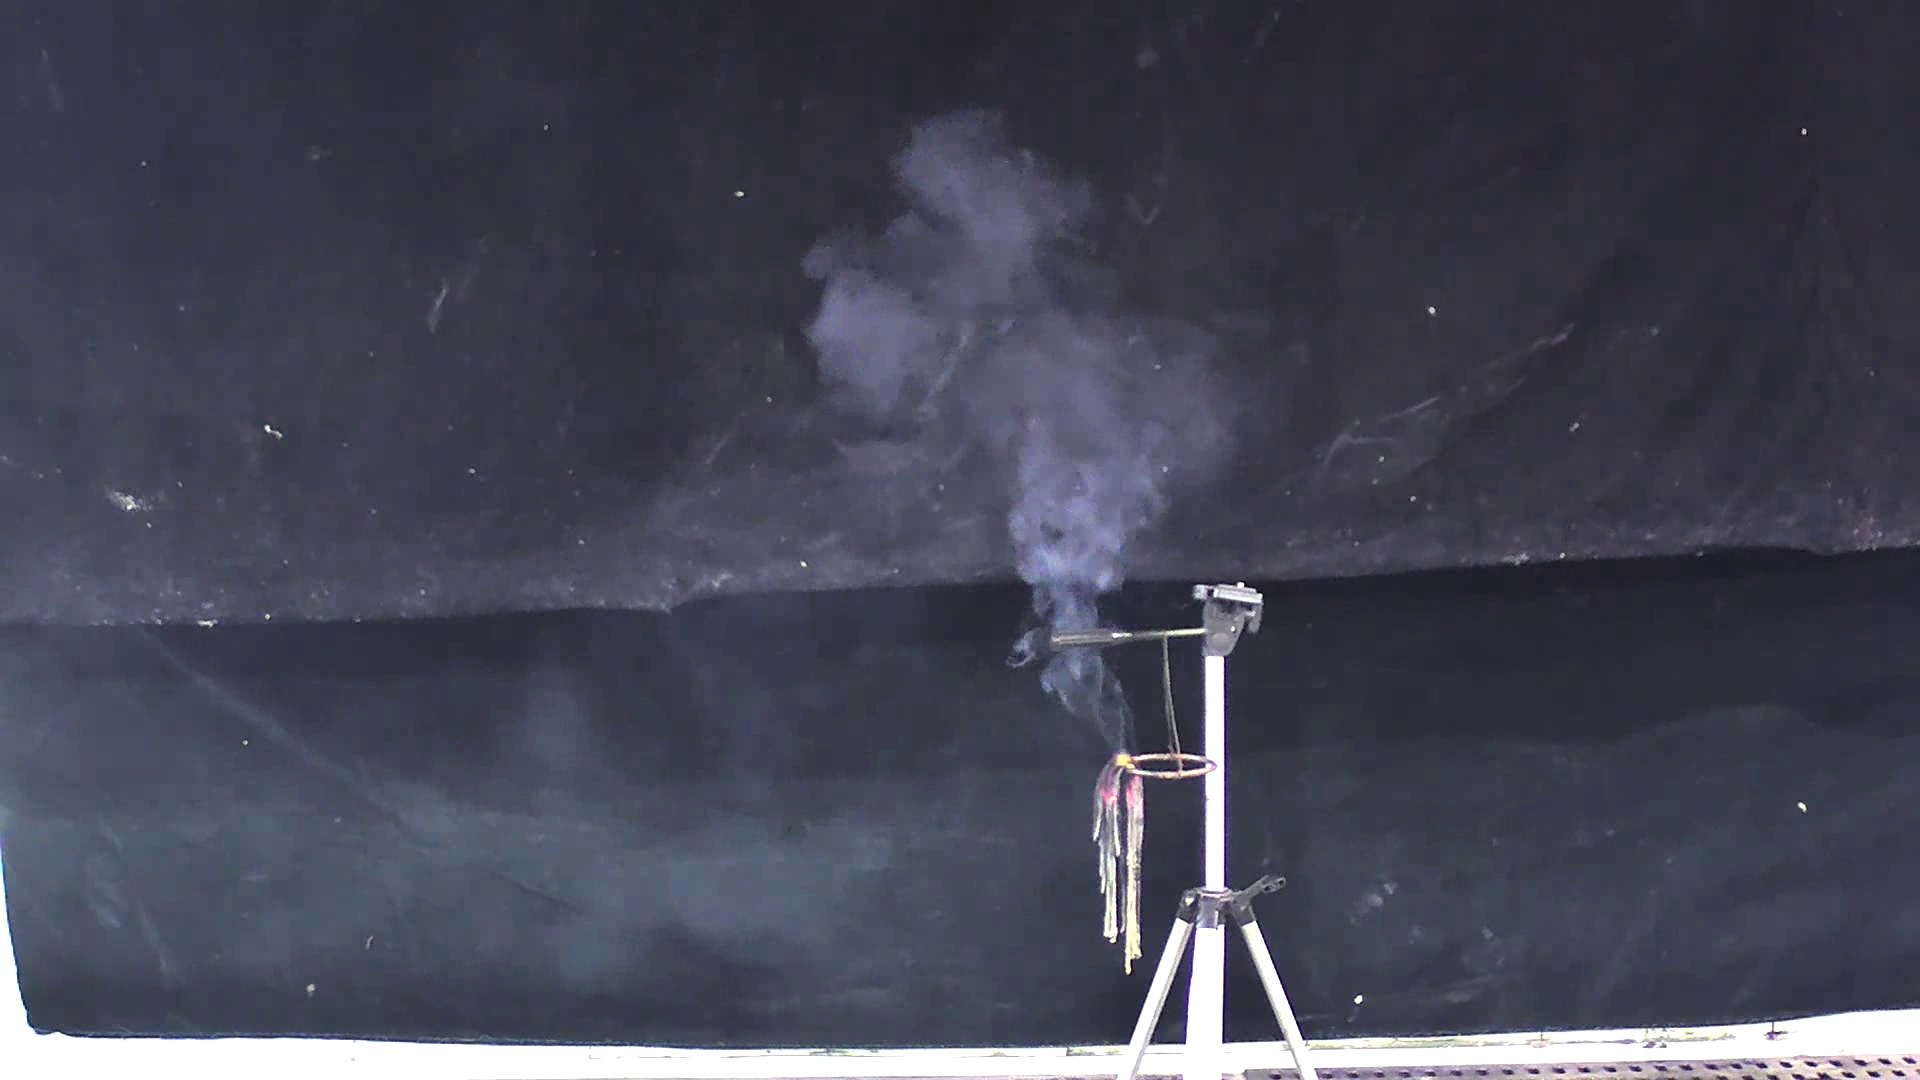smoke: (779, 91, 1197, 742)
